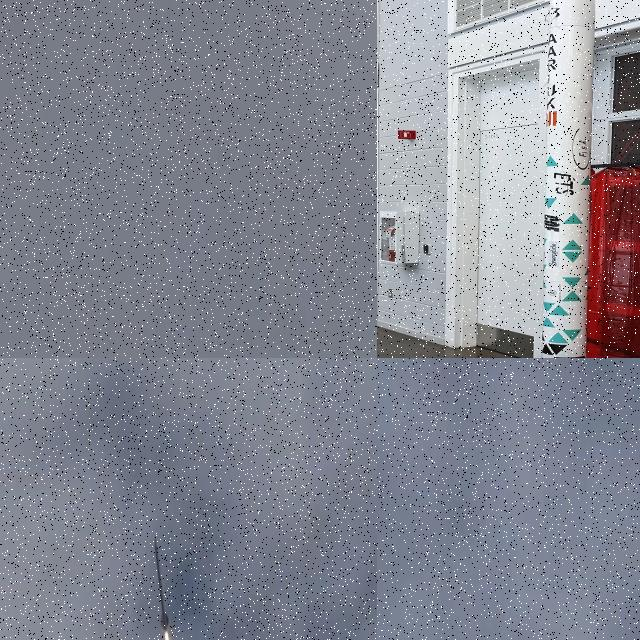Rocket: (541, 0, 595, 358), (155, 535, 169, 634)
